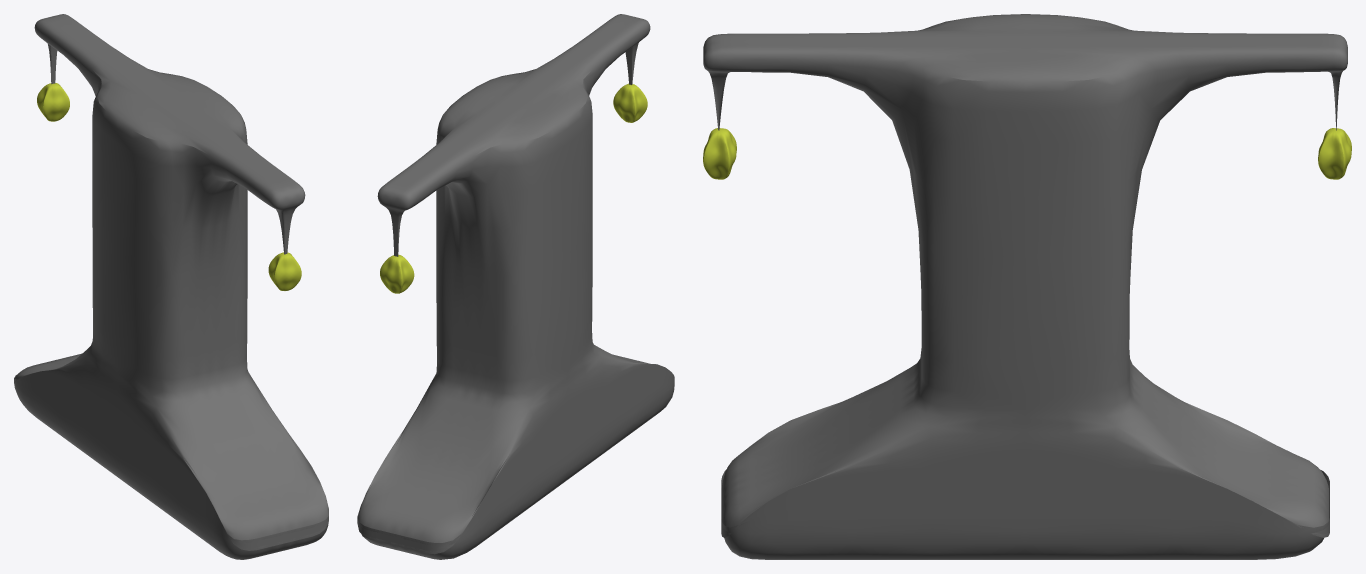
The model's file is Lights 2.fbx.
The picture shows the model from 3 angles, left to right: view 1: azimuth 30°, elevation 25°; view 2: azimuth 150°, elevation 25°; view 3: azimuth 270°, elevation 25°; orthographic projection. The views are drawn at different scales.
Parts seen in each view (by area): view 1: Cube, Sphere, Sphere_2; view 2: Cube, Sphere_2, Sphere; view 3: Cube, Sphere, Sphere_2.
Boxes of the visible parts, left/top/right/bottom form: Cube: left=14, top=14, right=328, bottom=559; Sphere: left=37, top=83, right=69, bottom=121; Sphere_2: left=268, top=252, right=301, bottom=290; Cube: left=357, top=14, right=674, bottom=559; Sphere_2: left=613, top=83, right=647, bottom=122; Sphere: left=380, top=254, right=414, bottom=293; Cube: left=703, top=14, right=1347, bottom=559; Sphere: left=1318, top=128, right=1351, bottom=179; Sphere_2: left=703, top=128, right=736, bottom=179.
Size of the model in its own units: 84.36 by 280 by 333.
